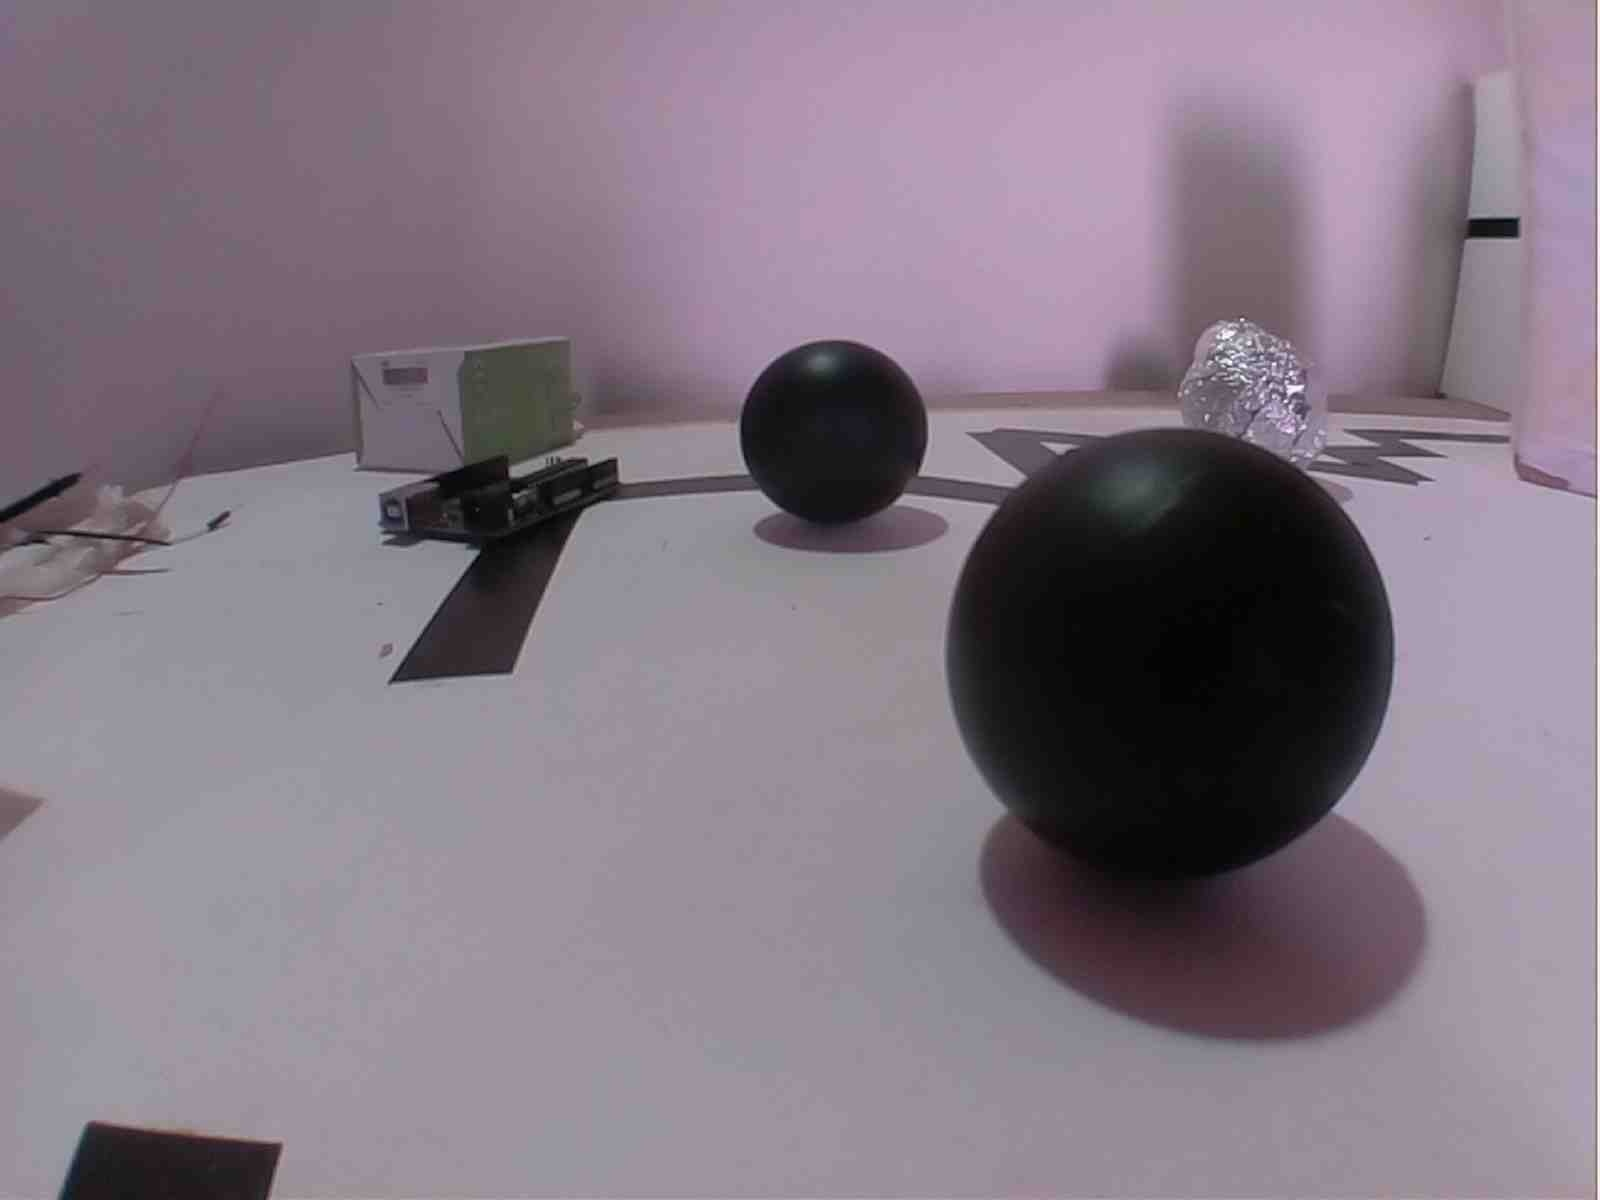bianca: (1167, 316, 1351, 487)
nera: (944, 421, 1422, 897), (733, 335, 934, 533)
